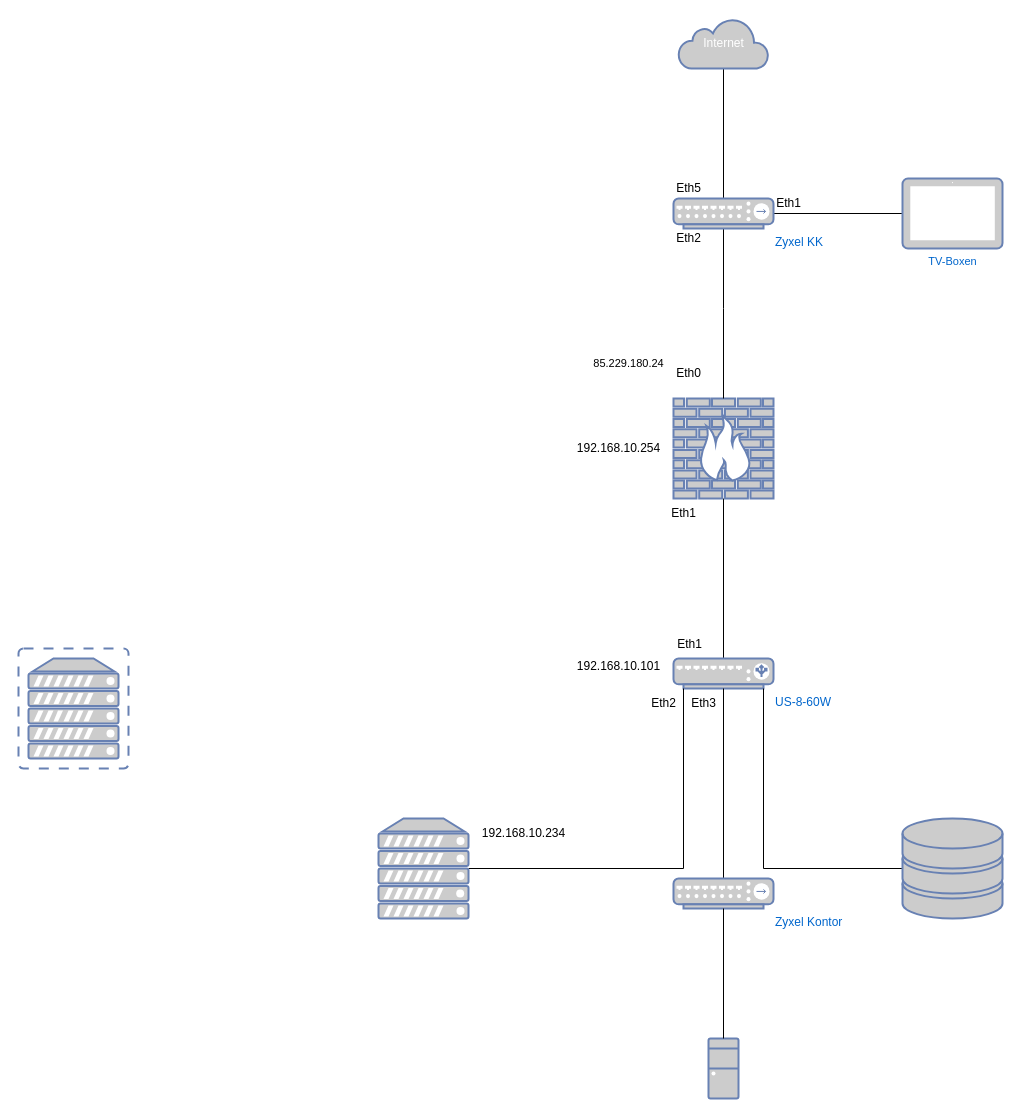
This 1020x1116 diagram has some shape labels left out. The centre of each missing label's shape, as x and y in pixels:
IKEA Gateway: the point at 952,868
PFSense: the point at 723,448
Proxmox: the point at 423,868
